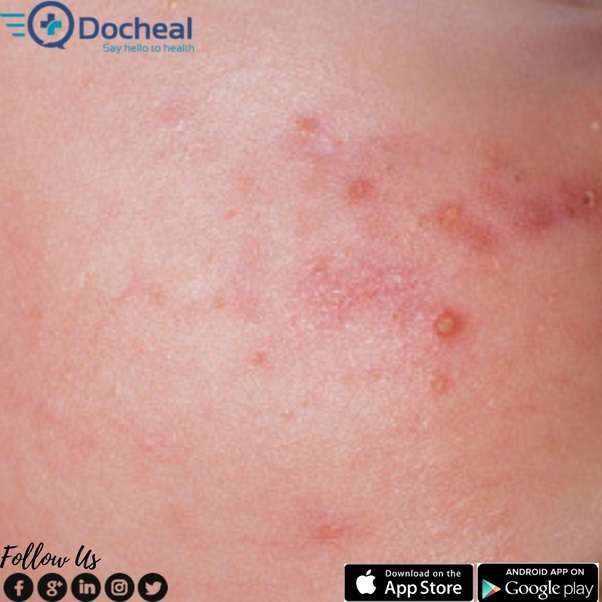acene: (140, 101, 602, 437)
